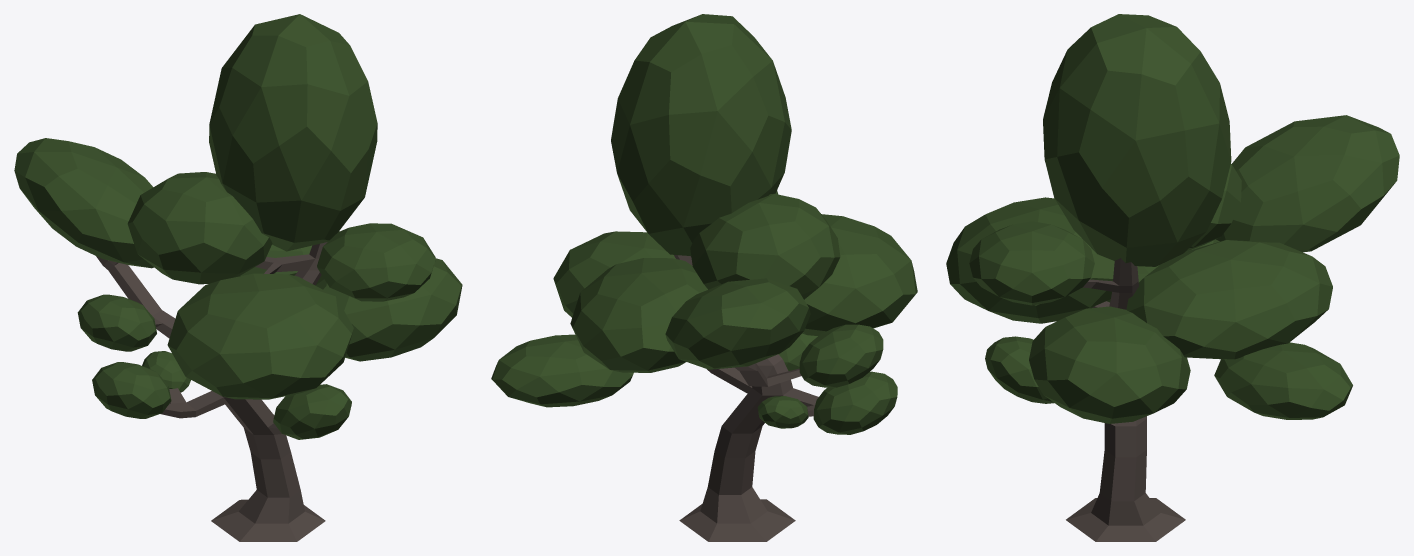
Rendered from Tree (final).fbx.
3 views of the same model, side by side, from view 1: azimuth 30°, elevation 25°; view 2: azimuth 150°, elevation 25°; view 3: azimuth 270°, elevation 25° (orthographic). The views are drawn at different scales.
Visible parts, largest first — view 1: Icosphere.012, Icosphere.010, Tree, Icosphere.002, Icosphere.009, Icosphere.005, Icosphere.001, Icosphere.007, Icosphere.000, Icosphere.004, Icosphere.003, Icosphere.008; view 2: Icosphere.012, Icosphere.008, Icosphere.002, Tree, Icosphere.009, Icosphere.010, Icosphere.006, Icosphere.007, Icosphere.001, Icosphere.000, Icosphere.003, Icosphere.004; view 3: Icosphere.012, Icosphere.008, Icosphere.009, Icosphere.001, Tree, Icosphere.005, Icosphere.006, Icosphere.010, Icosphere.004, Icosphere.002.
Boxes of the visible parts, box(x1,y1,x2,y2) form: Icosphere.012: box(209, 14, 377, 251); Icosphere.010: box(167, 273, 353, 399); Tree: box(96, 242, 327, 541); Icosphere.002: box(127, 172, 272, 284); Icosphere.009: box(14, 138, 153, 268); Icosphere.005: box(317, 223, 435, 301); Icosphere.001: box(315, 258, 462, 361); Icosphere.007: box(77, 294, 156, 351); Icosphere.000: box(92, 362, 171, 418); Icosphere.004: box(273, 384, 351, 439); Icosphere.003: box(142, 351, 190, 392); Icosphere.008: box(239, 231, 339, 285); Icosphere.012: box(611, 14, 791, 255); Icosphere.008: box(570, 258, 707, 372); Icosphere.002: box(690, 193, 840, 299); Tree: box(674, 255, 818, 541); Icosphere.009: box(665, 278, 810, 369); Icosphere.010: box(802, 214, 917, 335); Icosphere.006: box(491, 334, 633, 407); Icosphere.007: box(799, 324, 883, 387); Icosphere.001: box(553, 231, 675, 317); Icosphere.000: box(813, 371, 897, 434); Icosphere.003: box(757, 396, 808, 428); Icosphere.004: box(778, 333, 817, 370); Icosphere.012: box(1043, 14, 1231, 266); Icosphere.008: box(1126, 240, 1332, 359); Icosphere.009: box(1216, 115, 1399, 252); Icosphere.001: box(1029, 306, 1190, 423); Tree: box(1066, 258, 1185, 541); Icosphere.005: box(969, 221, 1094, 305); Icosphere.006: box(1214, 342, 1352, 419); Icosphere.010: box(946, 197, 1114, 323); Icosphere.004: box(985, 336, 1053, 403); Icosphere.002: box(1186, 164, 1241, 251).
Bounding box in the file's own units: 1425 × 1959 × 1570.
